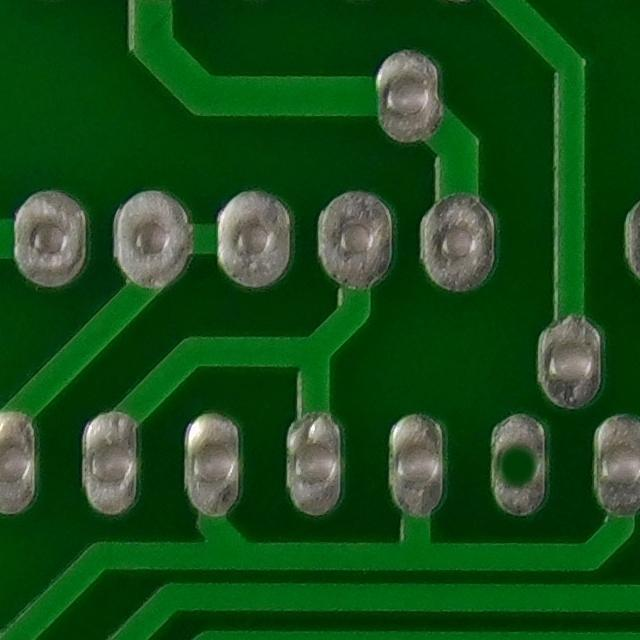missing_hole: (485, 420, 556, 515)
